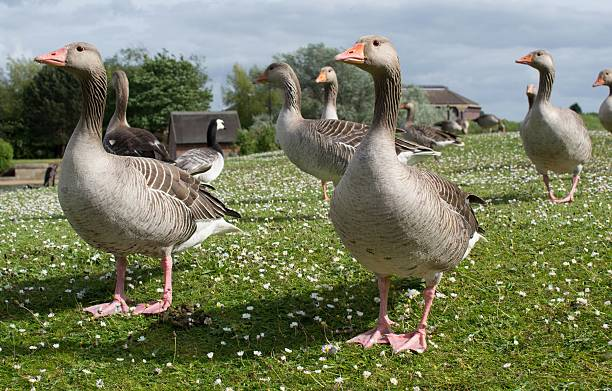goose: (33, 39, 246, 321), (331, 33, 486, 358), (253, 61, 434, 183), (515, 46, 590, 205), (110, 67, 163, 161), (175, 116, 228, 183), (397, 101, 452, 152), (312, 63, 344, 123), (592, 64, 612, 149), (457, 104, 473, 137), (441, 104, 457, 136)
